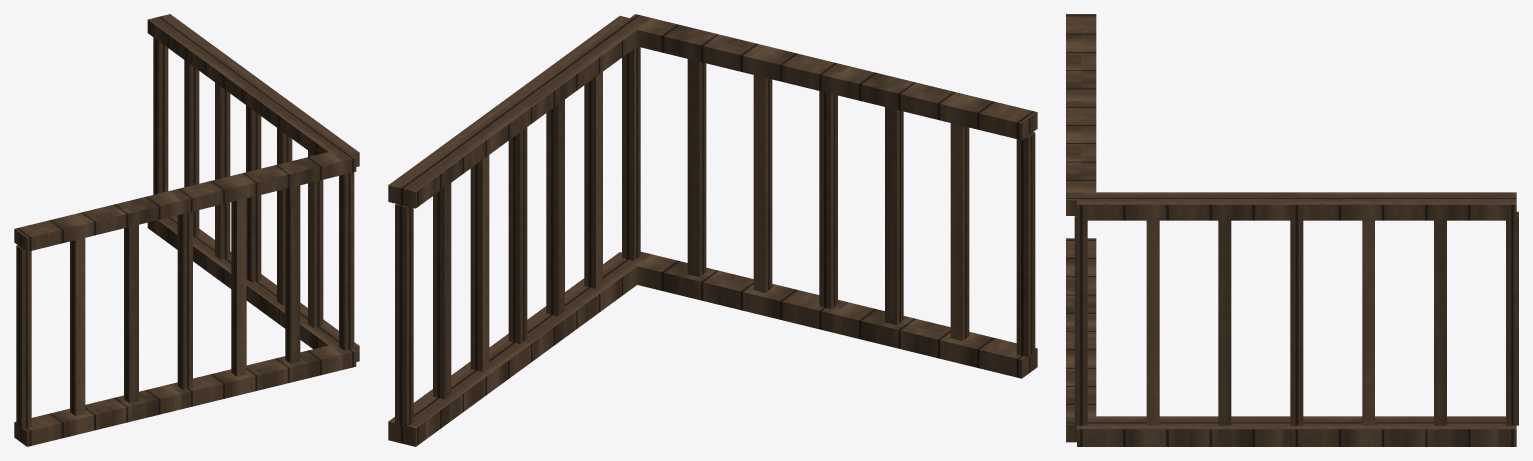
The model's file is Balcony_Simple_Corner_LOD1.gltf.
3 views of the same model, side by side, from view 1: azimuth 30°, elevation 25°; view 2: azimuth 150°, elevation 25°; view 3: azimuth 270°, elevation 25° (orthographic). The views are drawn at different scales.
Visible parts, largest first — view 1: Balcony_Simple_Corner_LOD1; view 2: Balcony_Simple_Corner_LOD1; view 3: Balcony_Simple_Corner_LOD1.
Part boxes in pixels (box(x1,y1,x2,y2)): Balcony_Simple_Corner_LOD1: box(14, 14, 359, 446); Balcony_Simple_Corner_LOD1: box(388, 14, 1037, 446); Balcony_Simple_Corner_LOD1: box(1066, 14, 1518, 446).
Size of the model in its own units: 2.09 by 1.23 by 2.09.
Materials: 1 (1 with a texture image).
